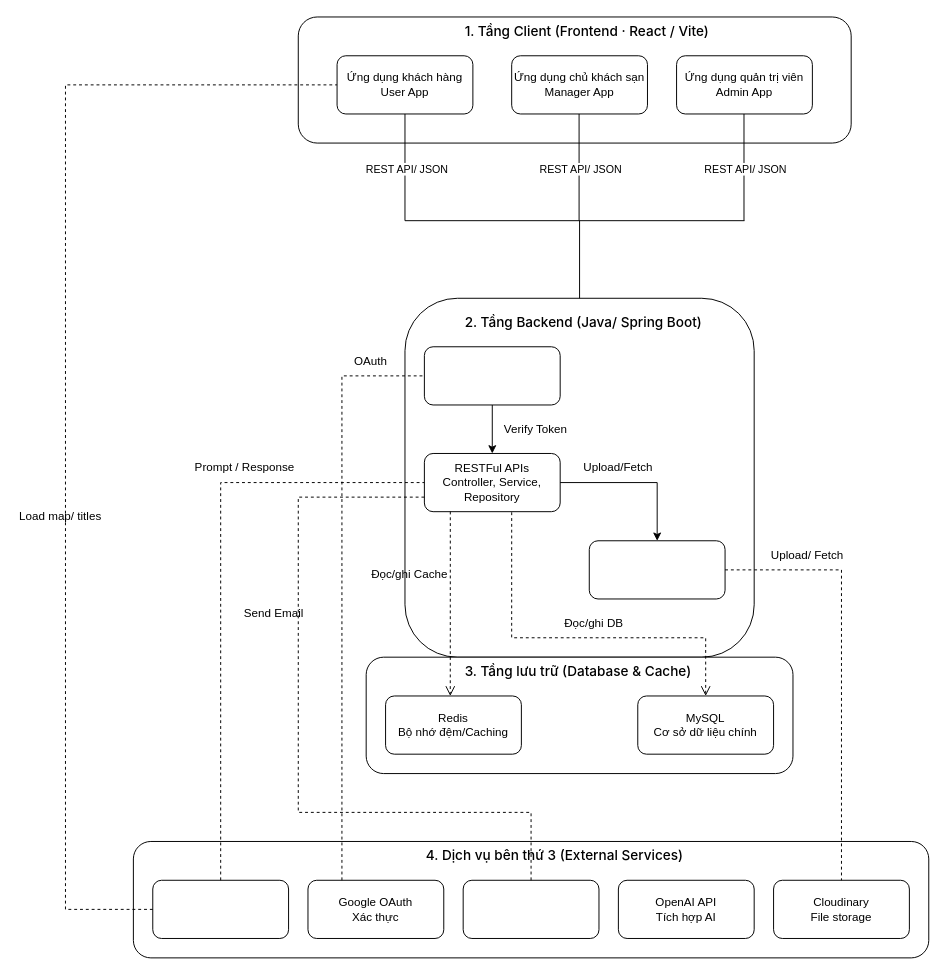
Image size: 946x975. Some labels were removed from this diagram. Here are the shapes that lost their labels. From the top down, the centre of each, then its label:
[491,375]: Spring Security JWT, Auth (Bearer Token)
[656,569]: Storage Manager File upload / fetch
[220,908]: Leaflet/OSM Bản đồ
[530,908]: SMTP Server Gửi email
